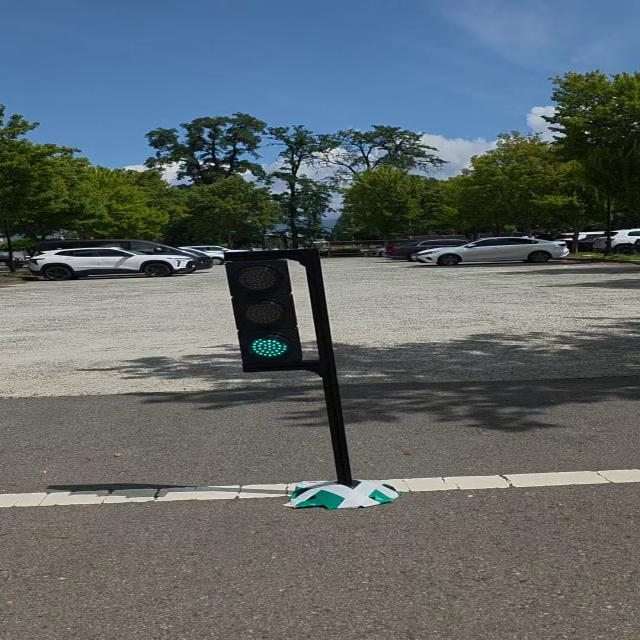green: (218, 252, 310, 370)
